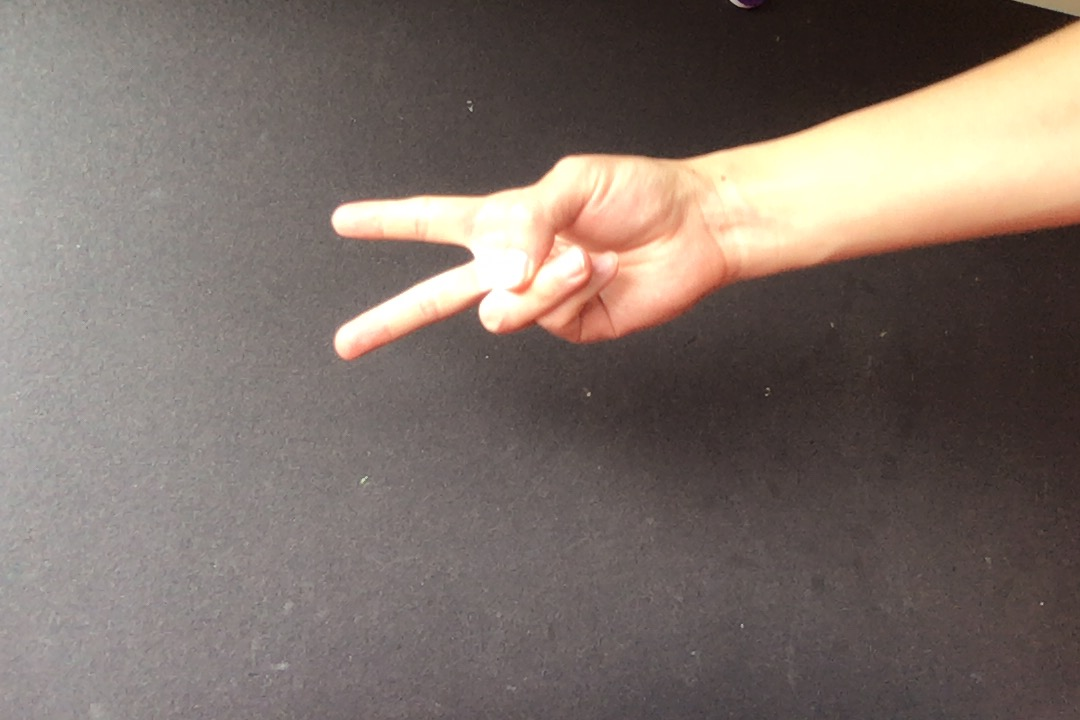peacesign: (319, 149, 711, 368)
